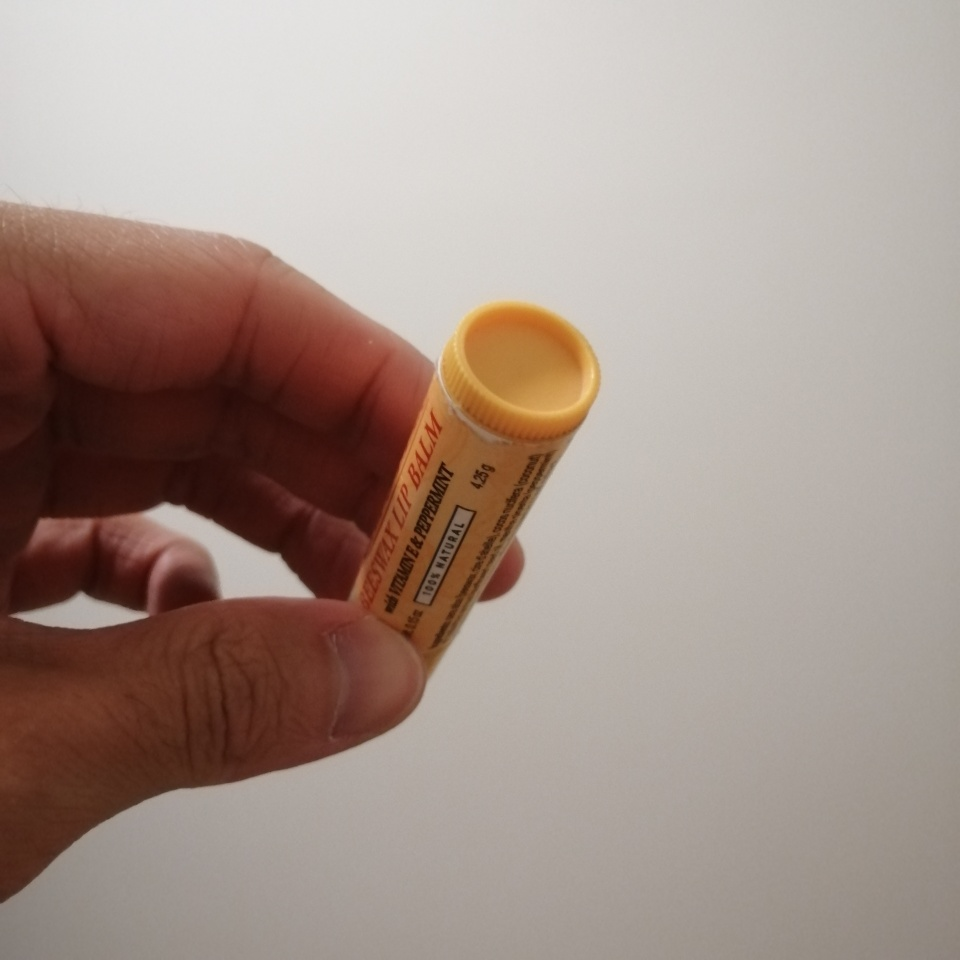chapstick: (352, 298, 601, 686)
